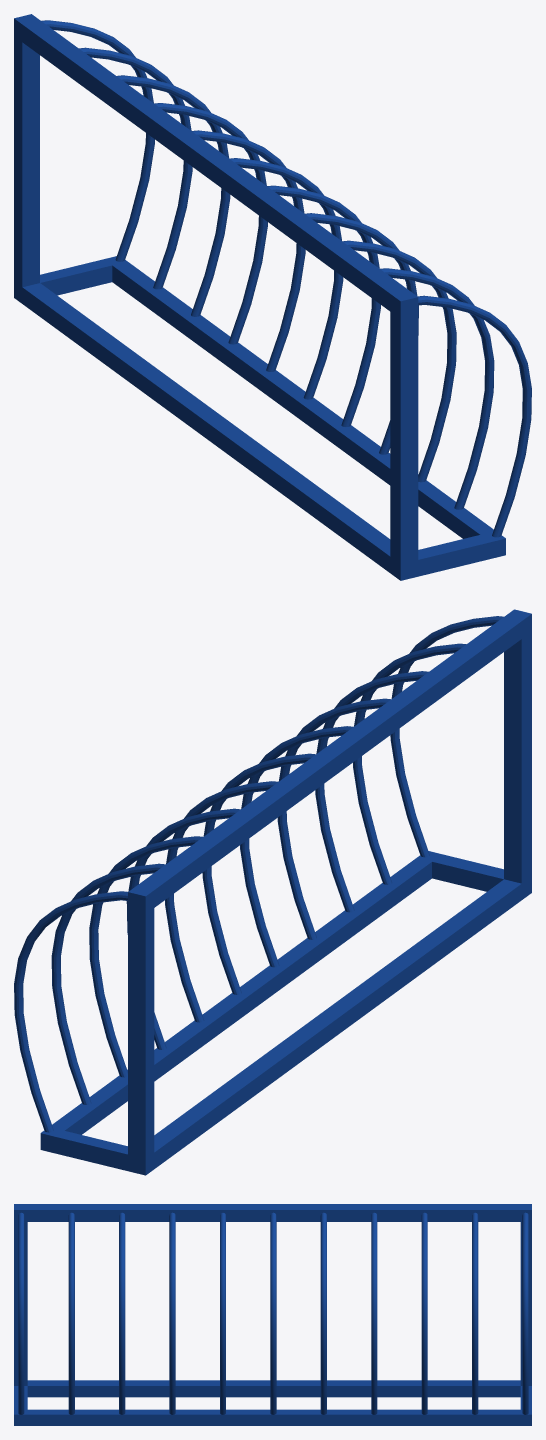
The model's file is Biciestacionamiento.fbx.
3 views of the same model, one above another, from view 1: azimuth 30°, elevation 25°; view 2: azimuth 150°, elevation 25°; view 3: azimuth 270°, elevation 25° (orthographic). The views are drawn at different scales.
Visible parts, largest first — view 1: Cube.002; view 2: Cube.002; view 3: Cube.002.
Boxes of the visible parts, box(x1,y1,x2,y2) form: Cube.002: box(14, 14, 531, 580); Cube.002: box(14, 609, 531, 1175); Cube.002: box(14, 1204, 531, 1425).
Bounding box in the file's own units: 30.78 × 60.41 × 151.
